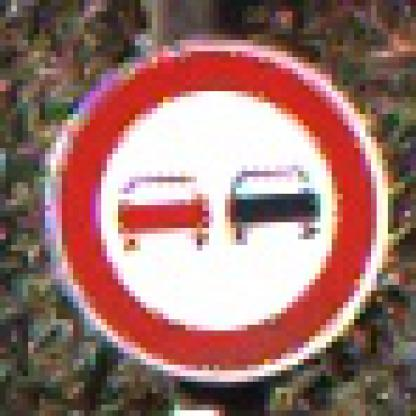No Overtaking: (41, 35, 384, 383)
